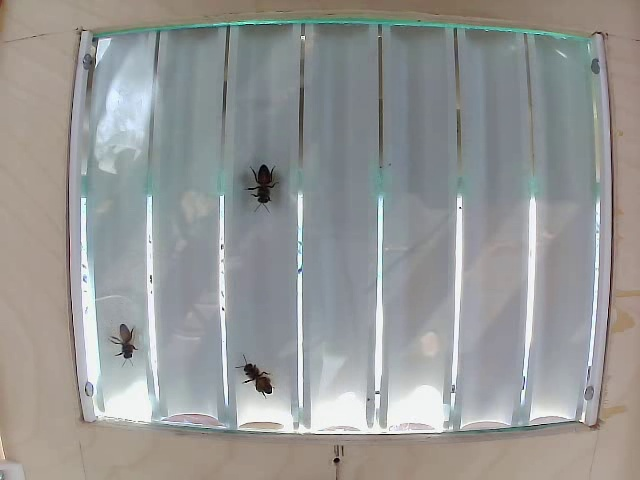bee: (243, 167, 277, 228), (114, 323, 153, 367), (236, 358, 285, 390)
